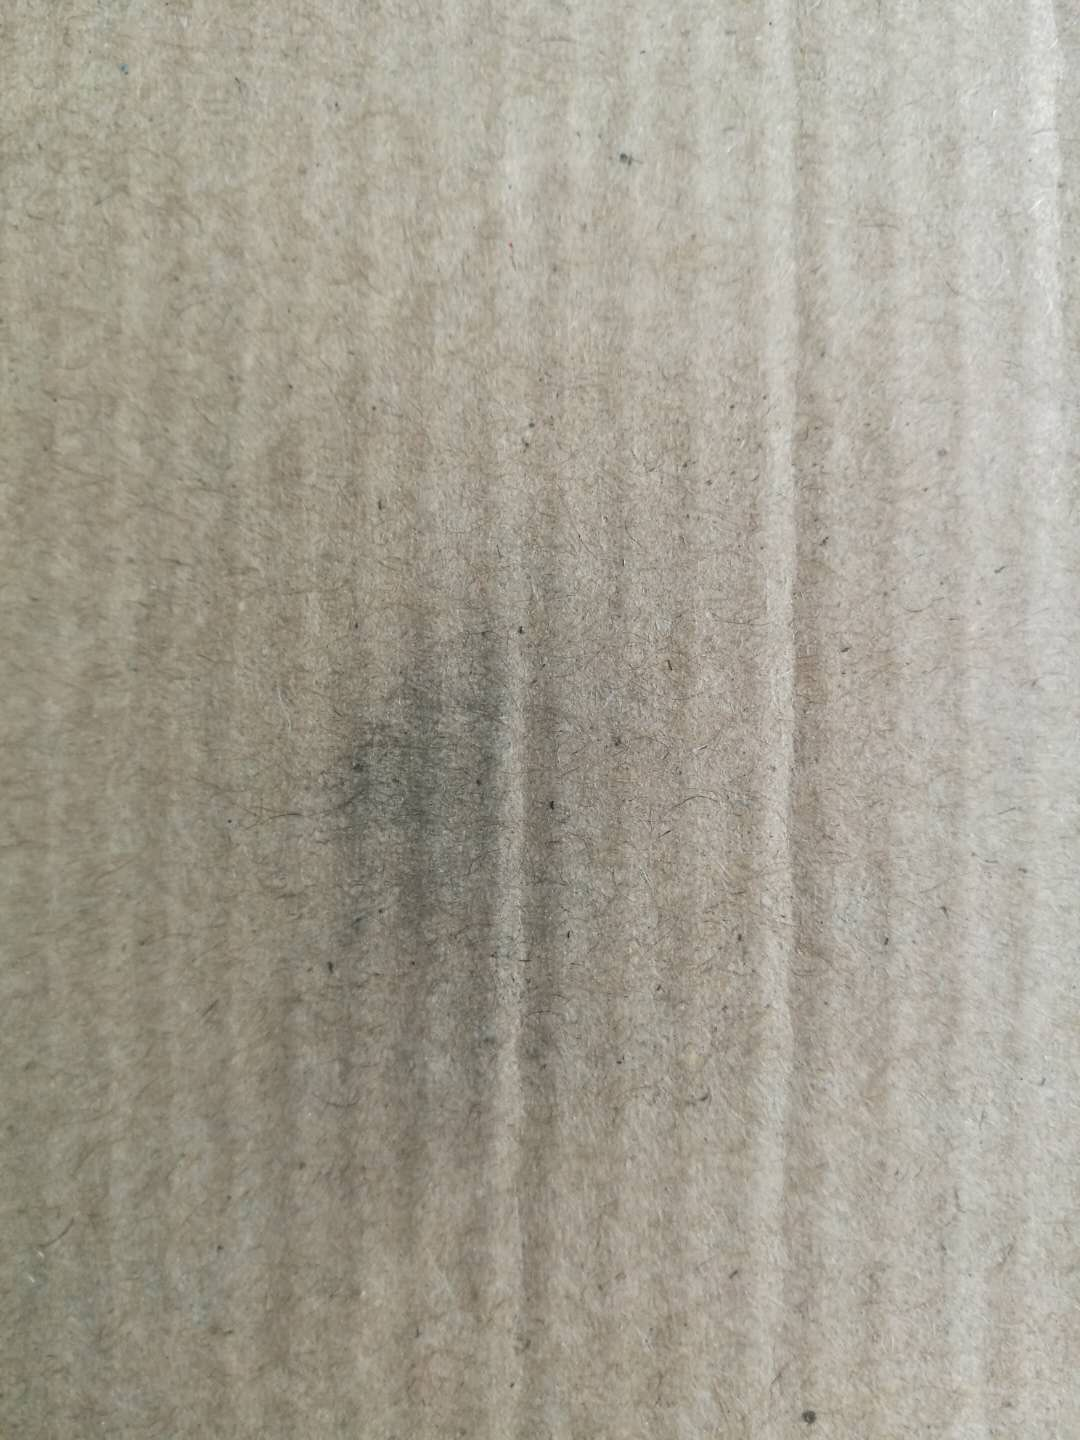defect: (143, 356, 900, 1298)
